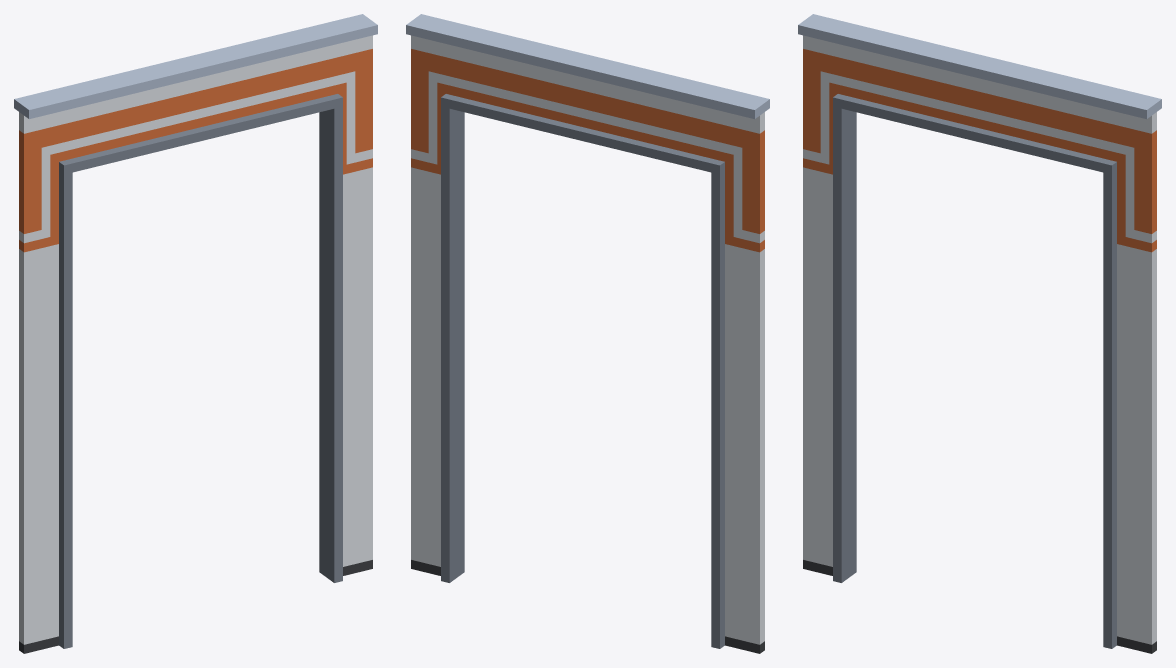
Rendered from wall-orange-door-frame.obj.
3 renders of one model, left to right at view 1: azimuth 30°, elevation 25°; view 2: azimuth 150°, elevation 25°; view 3: azimuth 330°, elevation 25°, orthographic.
Size of the model in its own units: 4 by 6 by 0.3.
1 material, 1 textured.
